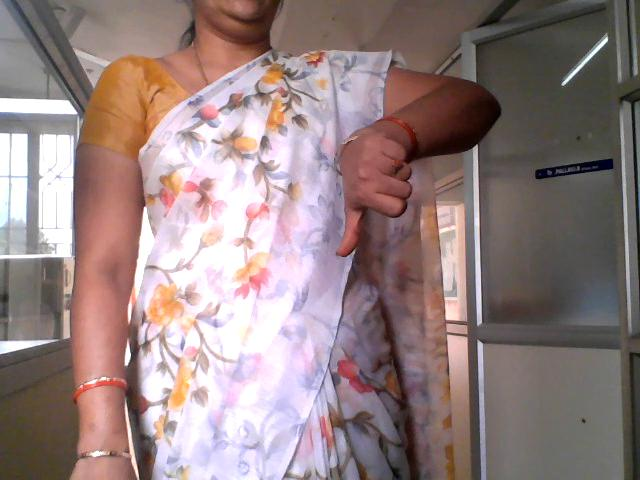thumbs-down: (308, 113, 460, 266)
